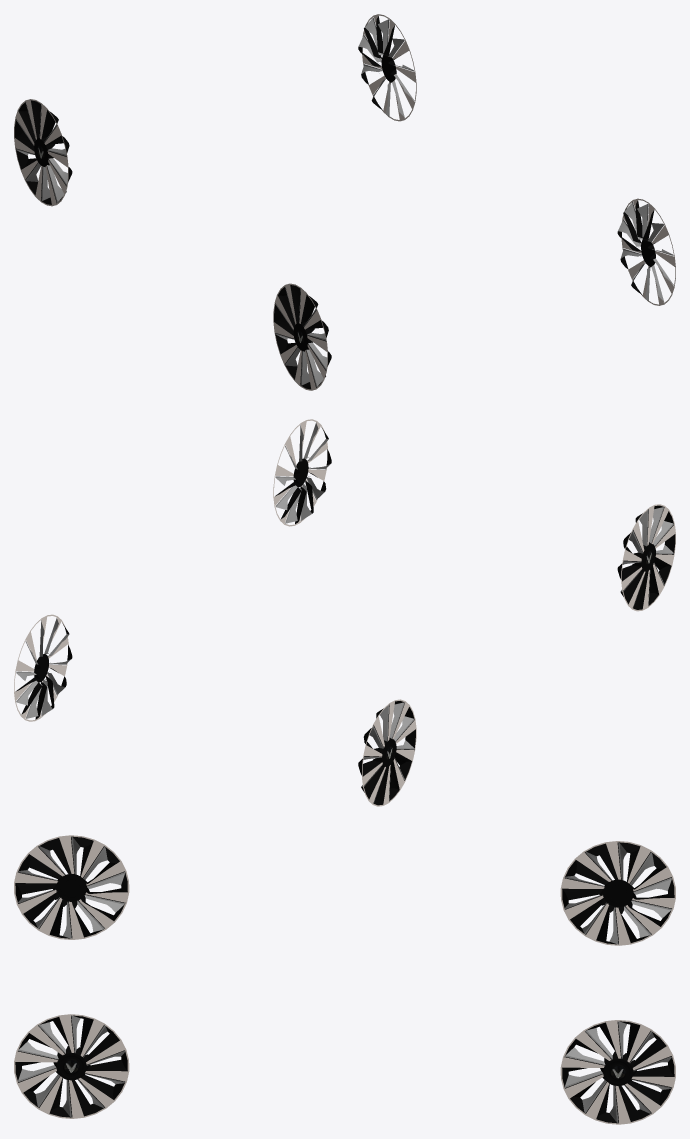
3 renders of one model, top to bottom at view 1: azimuth 30°, elevation 25°; view 2: azimuth 150°, elevation 25°; view 3: azimuth 270°, elevation 25°, orthographic. The views are drawn at different scales.
Parts seen in each view (by area): view 1: 2; view 2: 2; view 3: 2.
Part boxes in pixels (box(x1,y1,x2,y2)): 2: box(14, 14, 675, 390); 2: box(14, 419, 675, 806); 2: box(14, 835, 675, 1124).
Size of the model in its own units: 0.9731 by 0.2795 by 1.52.
Materials: 4 (1 with a texture image).
